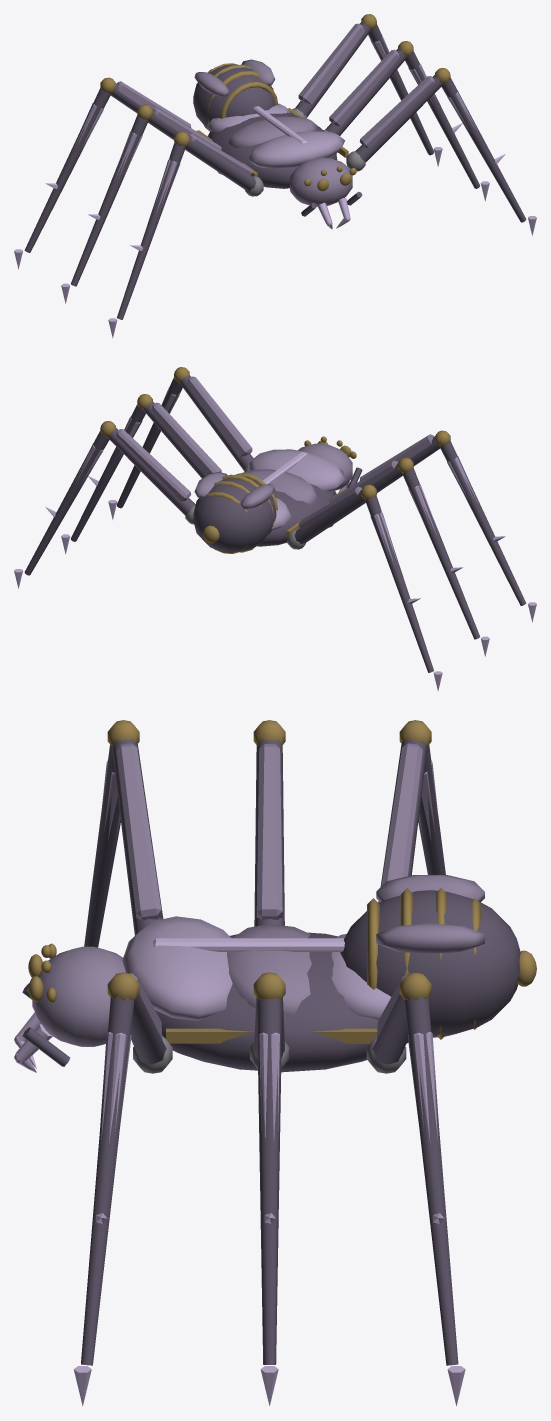
Rendered from weaver.glb.
3 renders of one model, top to bottom at view 1: azimuth 30°, elevation 25°; view 2: azimuth 150°, elevation 25°; view 3: azimuth 270°, elevation 25°, orthographic. The views are drawn at different scales.
Parts seen in each view (by area): view 1: weaver*0.003, weaver*2.3, weaver*1.001, weaver*0.7, weaver*0.012, weaver*0.008, weaver*0.016, weaver*0.005, weaver*1.6, weaver*1.009, weaver*1.007, weaver*1.004 (+15 smaller); view 2: weaver*0.003, weaver*2.3, weaver*0.012, weaver*0.016, weaver*0.008, weaver*0.014, weaver*1.004, weaver*0.7, weaver*1.007, weaver*1.009, weaver*0.010, weaver*1.6 (+12 smaller); view 3: weaver*0.003, weaver*0.7, weaver*2.3, weaver*1.001, weaver*0.010, weaver*0.005, weaver*0.014, weaver*1.6, weaver*1.005, weaver*1.008, weaver*1.010, weaver*0.008 (+15 smaller).
Part boxes in pixels (box(x1,y1,x2,y2)): weaver*0.003: box(193, 64, 275, 131); weaver*2.3: box(248, 131, 345, 168); weaver*1.001: box(290, 157, 352, 206); weaver*0.7: box(207, 112, 337, 188); weaver*0.012: box(71, 115, 148, 286); weaver*0.008: box(117, 142, 185, 319); weaver*0.016: box(24, 87, 110, 252); weaver*0.005: box(441, 78, 526, 222); weaver*1.6: box(227, 116, 318, 147); weaver*1.009: box(298, 23, 364, 104); weaver*1.007: box(329, 49, 399, 126); weaver*1.004: box(359, 76, 434, 148); weaver*0.003: box(193, 478, 276, 552); weaver*2.3: box(247, 449, 345, 491); weaver*0.012: box(402, 468, 479, 639); weaver*0.016: box(365, 495, 433, 672); weaver*0.008: box(440, 440, 526, 605); weaver*0.014: box(24, 431, 109, 575); weaver*1.004: box(186, 376, 252, 457); weaver*0.7: box(257, 483, 336, 546); weaver*1.007: box(151, 402, 221, 474); weaver*1.009: box(116, 429, 191, 501); weaver*0.010: box(71, 404, 145, 541); weaver*1.6: box(241, 469, 318, 504); weaver*0.003: box(340, 890, 520, 1037); weaver*0.7: box(155, 932, 408, 1072); weaver*2.3: box(122, 916, 232, 1020); weaver*1.001: box(32, 946, 125, 1046); weaver*0.010: box(257, 998, 282, 1364); weaver*0.005: box(81, 996, 134, 1365); weaver*0.014: box(404, 996, 458, 1365); weaver*1.6: box(227, 924, 311, 1015); weaver*1.005: box(116, 743, 162, 920); weaver*1.008: box(256, 744, 282, 919); weaver*1.010: box(379, 743, 422, 902); weaver*0.008: box(84, 745, 120, 947).
Bounding box in the file's own units: 3.76 × 1.52 × 2.01.
